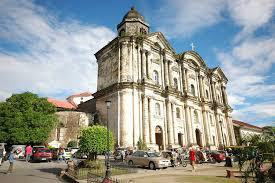taal_basilica_church_taal_batangas: (101, 6, 240, 163)
